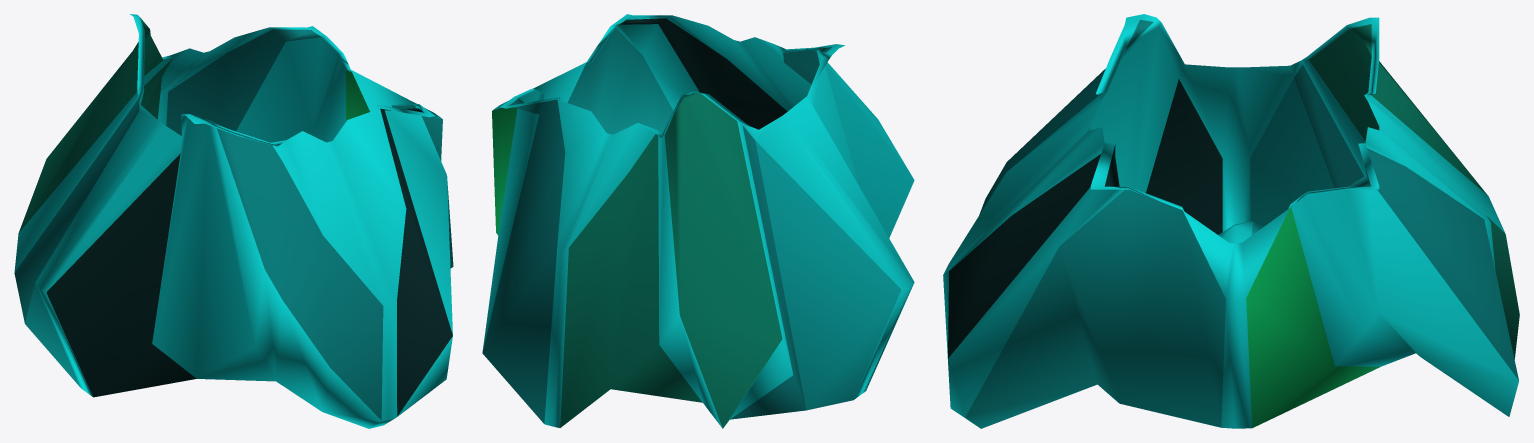
The model's file is OldNewspaper004.glb.
3 renders of one model, left to right at view 1: azimuth 30°, elevation 25°; view 2: azimuth 150°, elevation 25°; view 3: azimuth 270°, elevation 25°, orthographic. The views are drawn at different scales.
Visible parts, largest first — view 1: OldNewspaper004; view 2: OldNewspaper004; view 3: OldNewspaper004.
Part boxes in pixels (bbox=[...]): OldNewspaper004: bbox=[14, 14, 453, 428]; OldNewspaper004: bbox=[482, 14, 914, 428]; OldNewspaper004: bbox=[943, 14, 1519, 428].
Bounding box in the file's own units: 0.0475 × 0.0351 × 0.0504.
